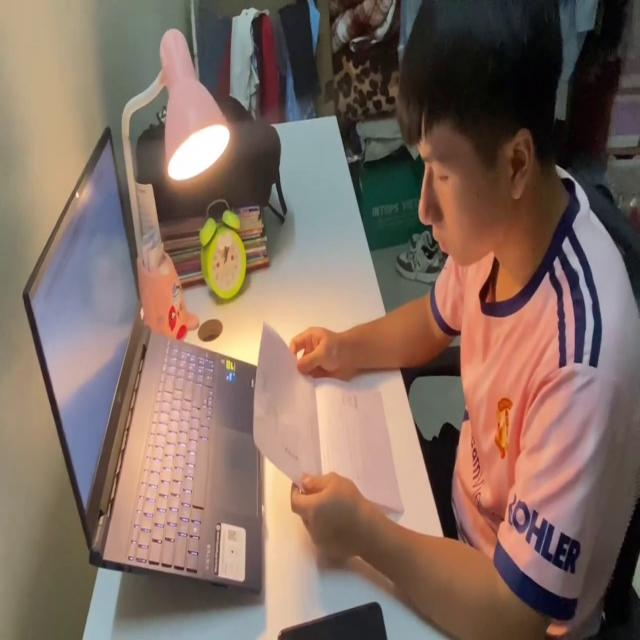book: (251, 319, 405, 517)
laptop: (25, 116, 266, 598)
phone: (276, 593, 388, 640)
student: (289, 0, 640, 640)
